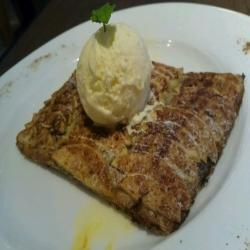apple_pie: (16, 37, 244, 234)
icecream: (69, 19, 153, 133)
